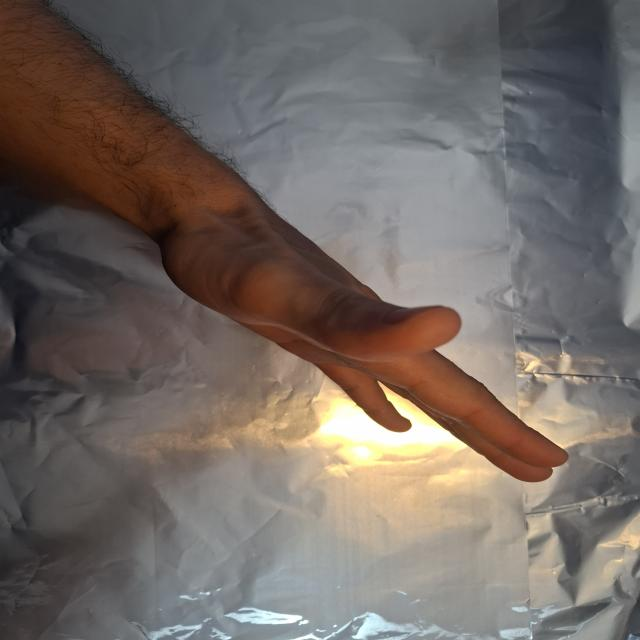glove_off: (154, 191, 572, 485)
